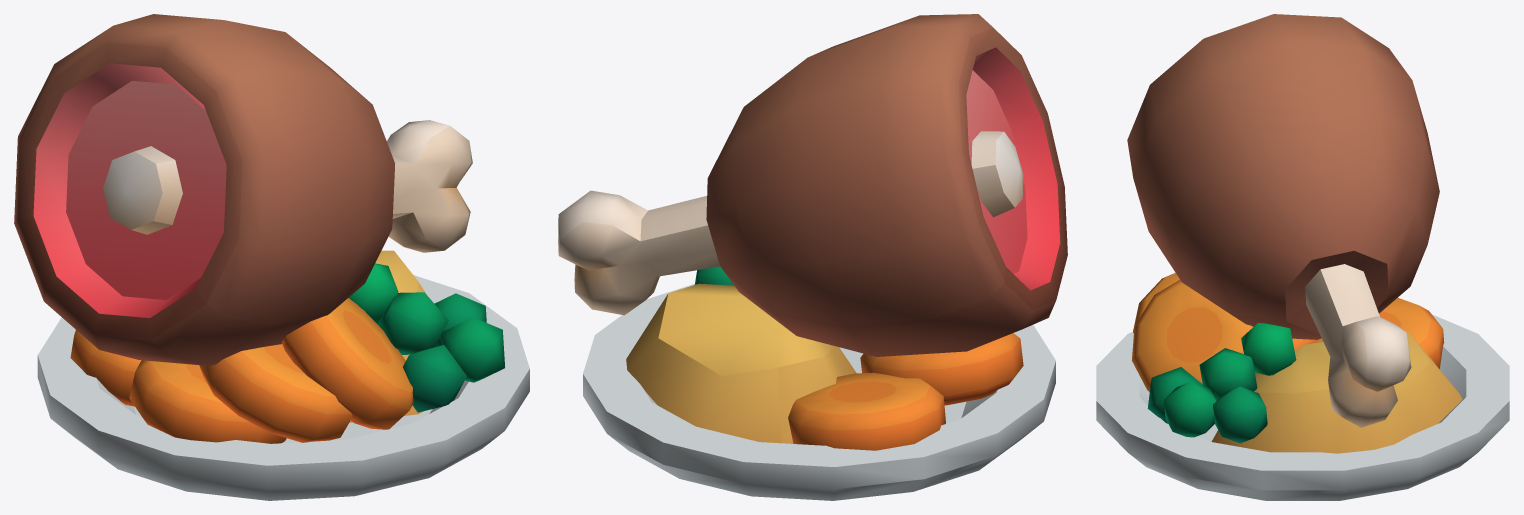
File: kay-food_dinner.glb
The picture shows the model from 3 angles, left to right: view 1: azimuth 30°, elevation 25°; view 2: azimuth 150°, elevation 25°; view 3: azimuth 270°, elevation 25°; orthographic projection. The views are drawn at different scales.
Visible parts, largest first — view 1: food_dinner; view 2: food_dinner; view 3: food_dinner.
Part boxes in pixels (<box>): food_dinner: <box>14,14,529,500</box>; food_dinner: <box>558,14,1067,500</box>; food_dinner: <box>1096,14,1509,500</box>.
Bounding box in the file's own units: 0.22 × 0.1925 × 0.2015.
Materials: 1 (1 with a texture image).
